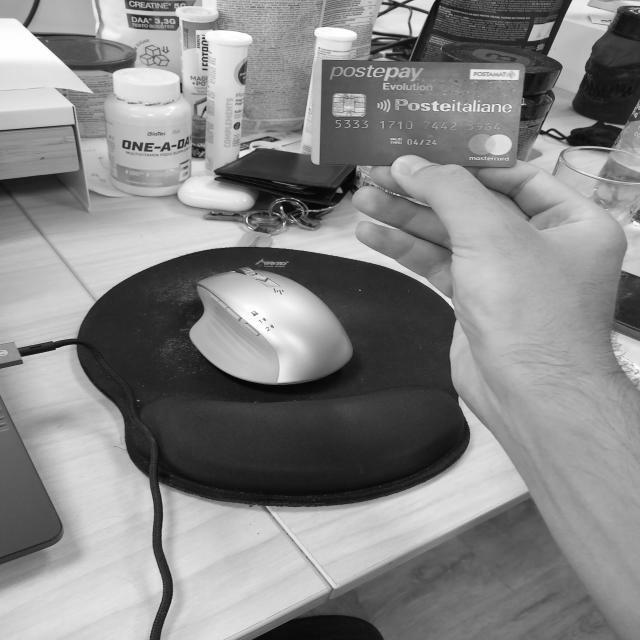card: (312, 58, 524, 166)
